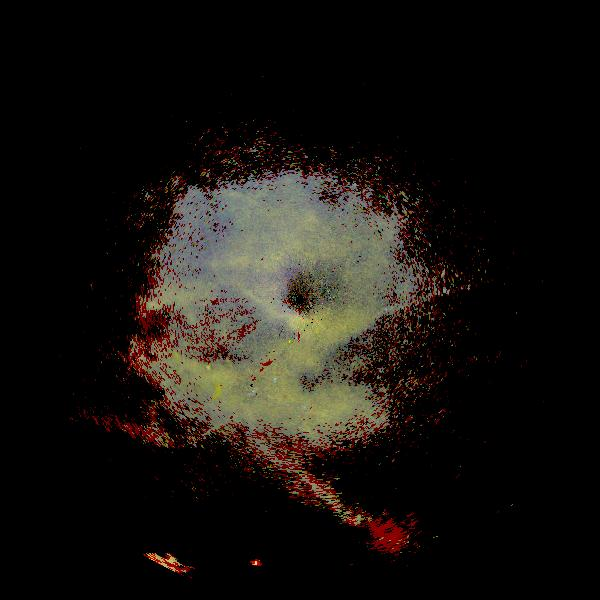roost: (154, 348, 187, 381)
